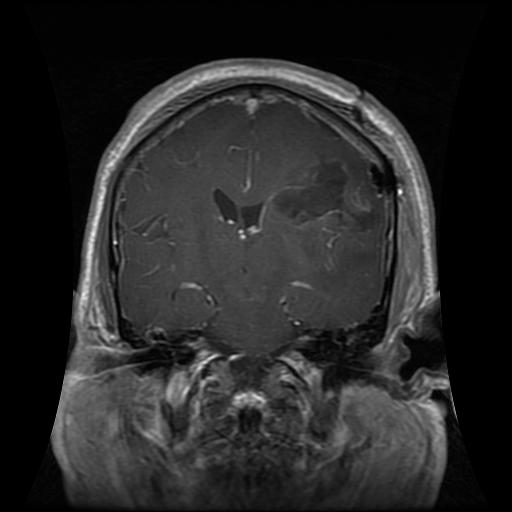Gliomia_tumour: (272, 153, 384, 268)
